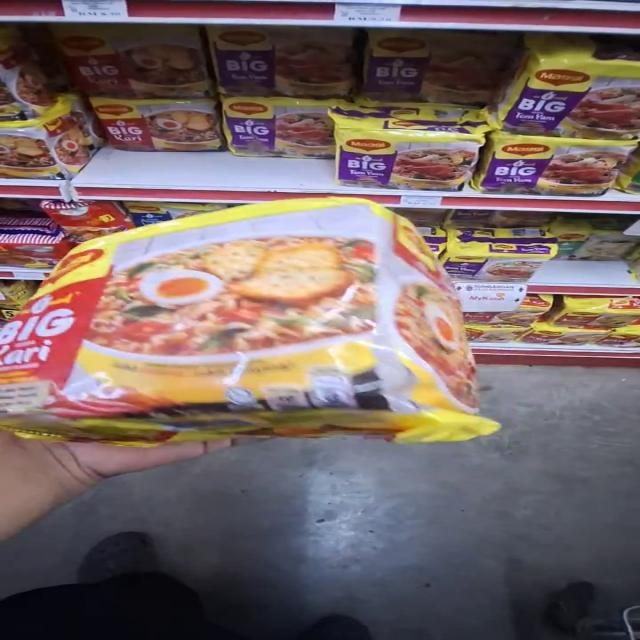Maggi: (0, 202, 529, 444), (0, 48, 102, 181), (338, 108, 478, 190), (500, 51, 640, 132), (478, 138, 638, 194), (93, 98, 224, 154), (226, 103, 338, 159)
